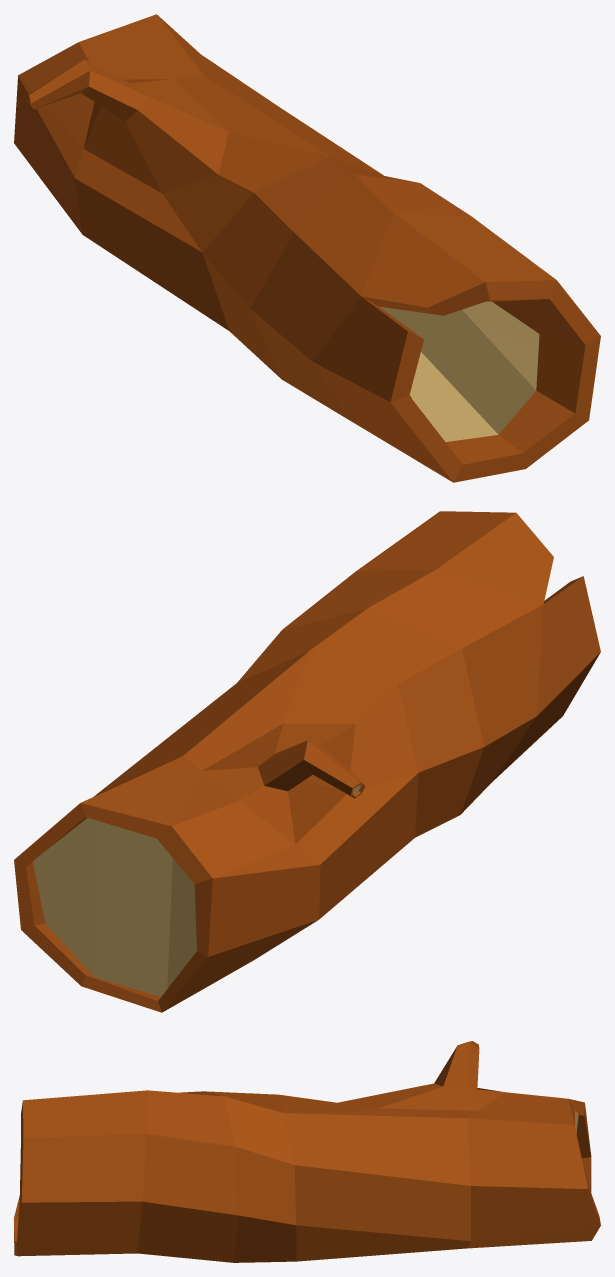
Rendered from F_Stump_0_0.fbx.
3 views of the same model, one above another, from view 1: azimuth 30°, elevation 25°; view 2: azimuth 150°, elevation 25°; view 3: azimuth 270°, elevation 25° (orthographic). The views are drawn at different scales.
Parts seen in each view (by area): view 1: F_Stump_0_0; view 2: F_Stump_0_0; view 3: F_Stump_0_0.
Boxes of the visible parts, bbox=[...] form: F_Stump_0_0: bbox=[14, 14, 600, 482]; F_Stump_0_0: bbox=[14, 511, 600, 1012]; F_Stump_0_0: bbox=[14, 1041, 600, 1262].
Size of the model in its own units: 104 by 84.01 by 263.
Materials: 1 (1 with a texture image).
